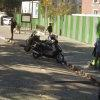Motorcycle: (21, 25, 77, 72)
